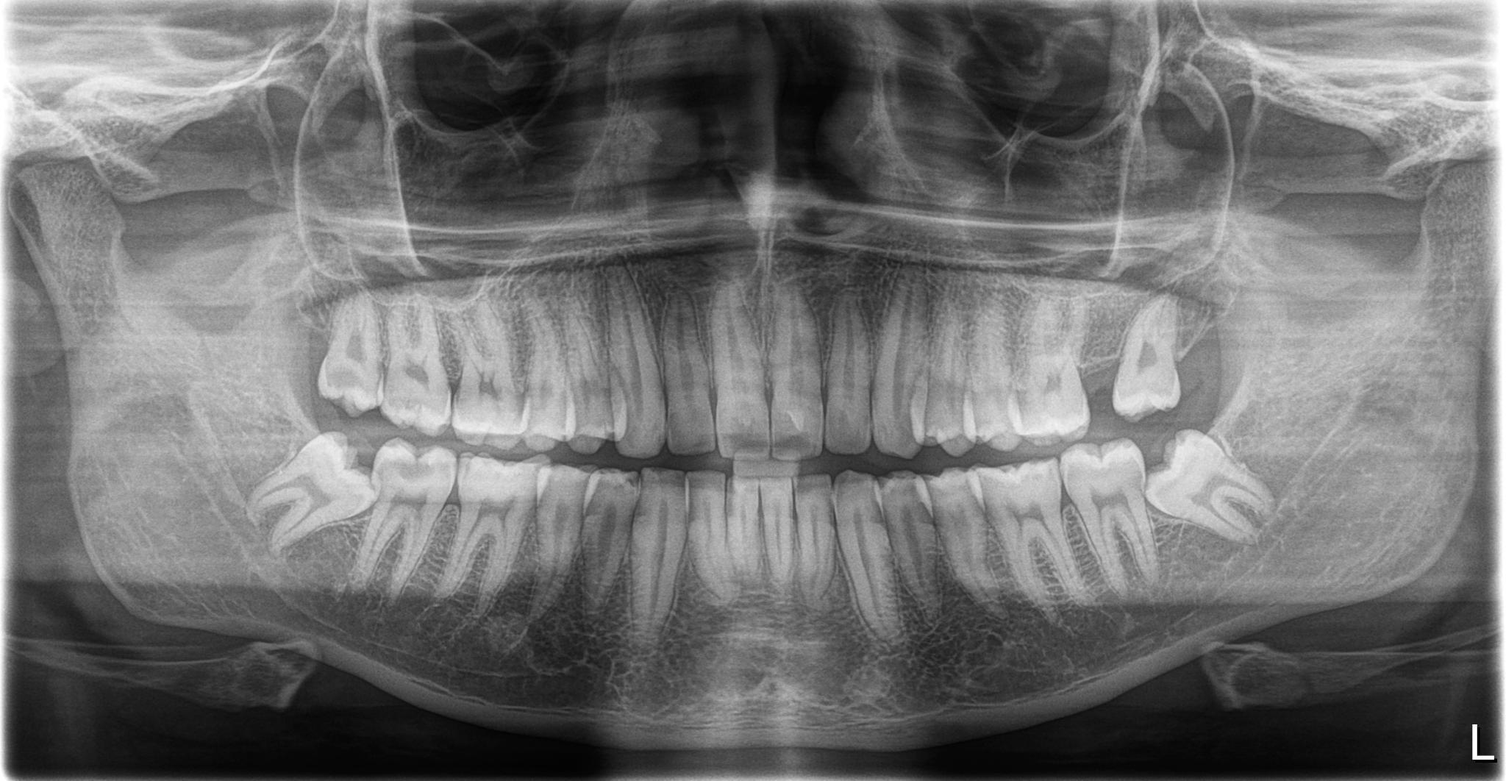Impacted Third Molar: (1155, 434, 1266, 544), (265, 441, 367, 551)
Missing Tooth: (1083, 360, 1120, 431)
